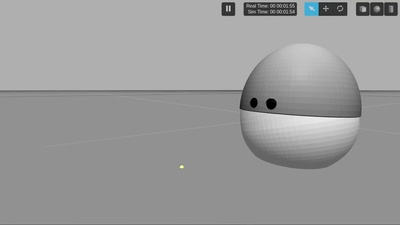mira_robot: (240, 43, 363, 169)
